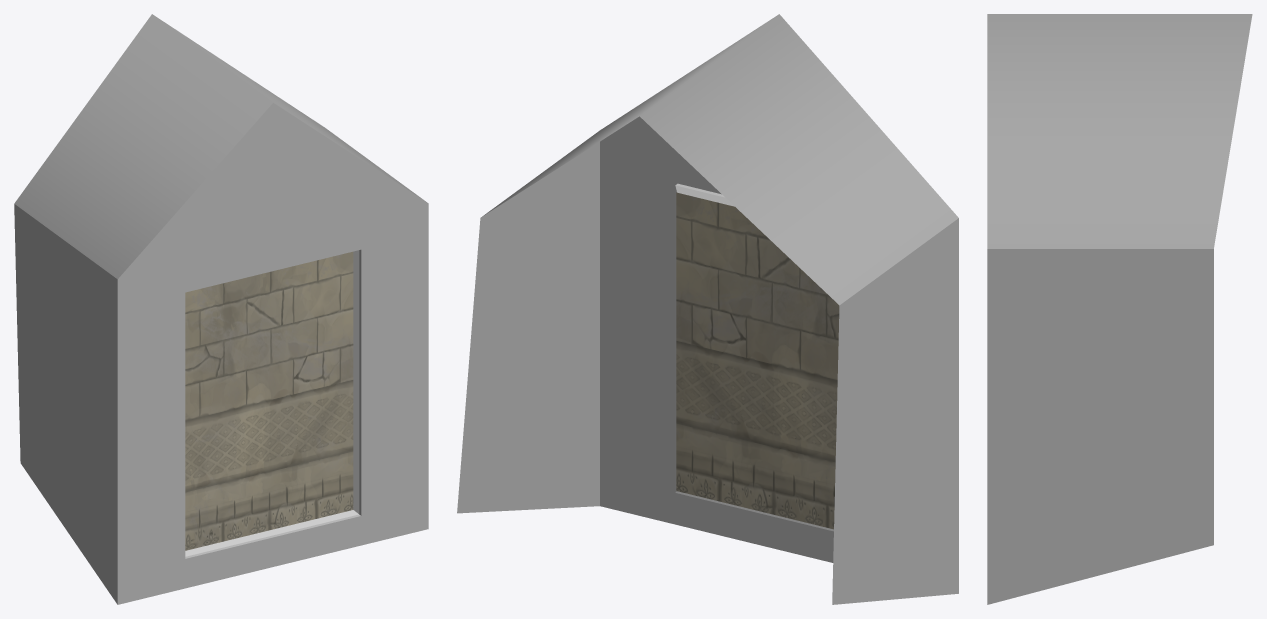
Rendered from M_Roof_WIndow.fbx.
3 views of the same model, side by side, from view 1: azimuth 30°, elevation 25°; view 2: azimuth 150°, elevation 25°; view 3: azimuth 270°, elevation 25° (orthographic). The views are drawn at different scales.
Visible parts, largest first — view 1: polySurface1, polySurface2; view 2: polySurface1, polySurface2; view 3: polySurface1.
Part boxes in pixels (bbox=[...]): polySurface1: bbox=[14, 14, 428, 604]; polySurface2: bbox=[185, 251, 353, 550]; polySurface1: bbox=[457, 14, 958, 604]; polySurface2: bbox=[676, 192, 839, 529]; polySurface1: bbox=[987, 14, 1252, 604].
Bounding box in the file's own units: 1.6 × 2.14 × 1.01.
